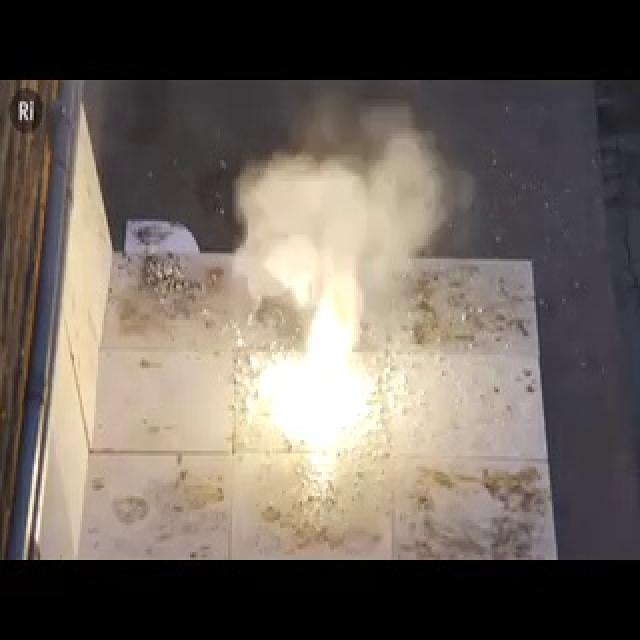fire: (259, 242, 391, 458)
